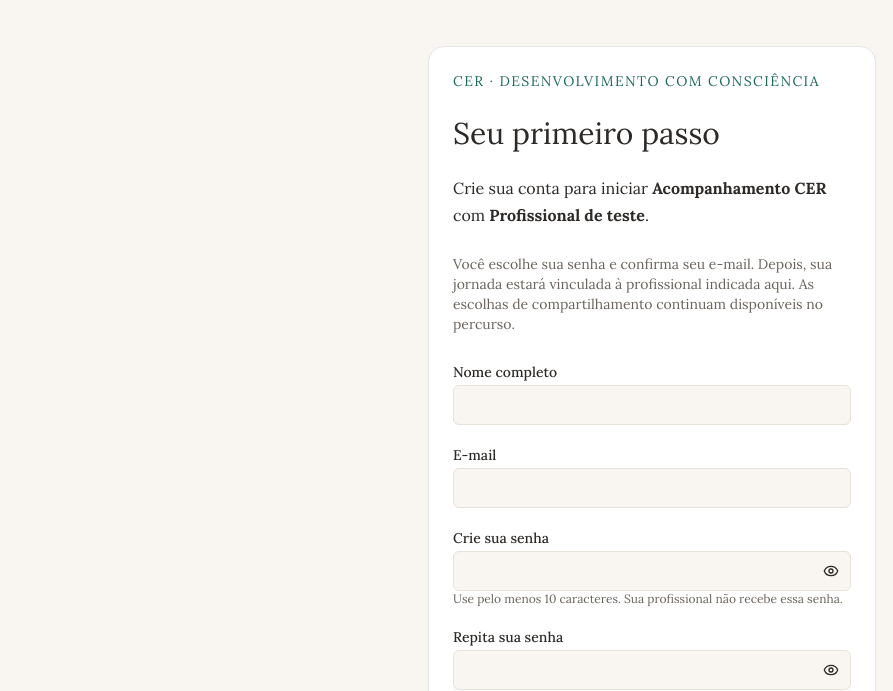
it: falha de envio preserva nome e e-mail, limpa senhas e permite reenviar confirmação
Type "Pessoa de Teste" into the field labelled "Nome completo" at point(652, 405), box 453,385 -> 851,425
Type "pessoa@example.invalid" into the field labelled "E-mail" at point(652, 488), box 453,468 -> 851,508
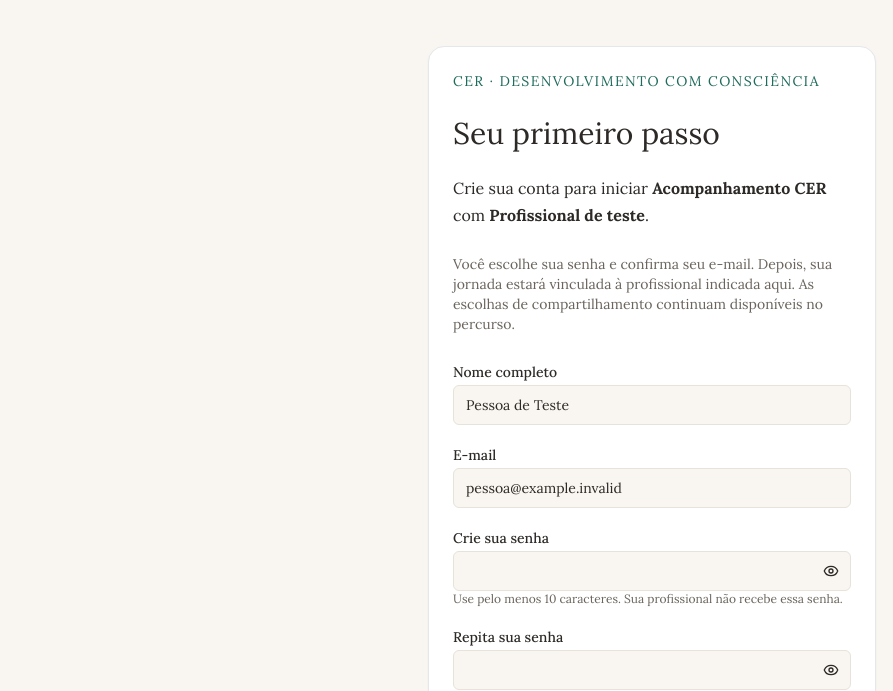
Type "Fixture-only-123" into the password field labelled "Crie sua senha" at point(652, 571), box 453,551 -> 851,591
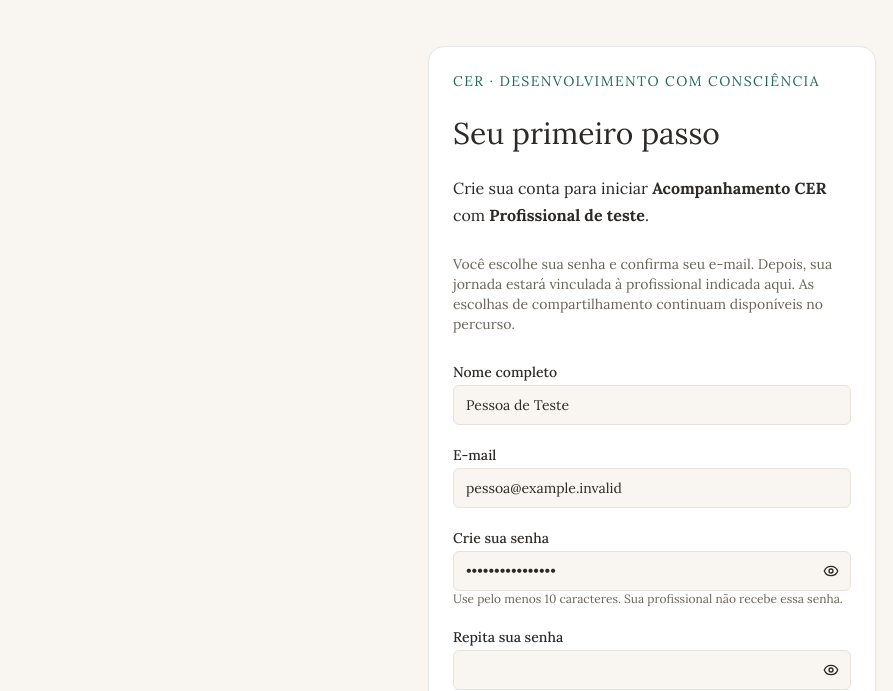
Type "Fixture-only-123" into the password field labelled "Repita sua senha" at point(652, 670), box 453,650 -> 851,690
(page scrolled)
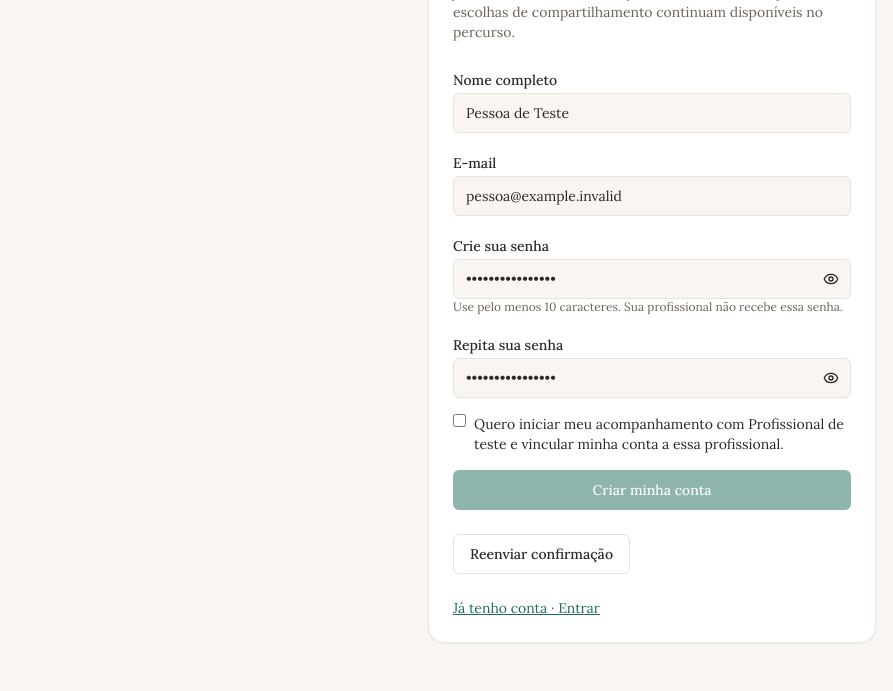
Click the checkbox at point(460, 421), box 453,414 -> 466,427
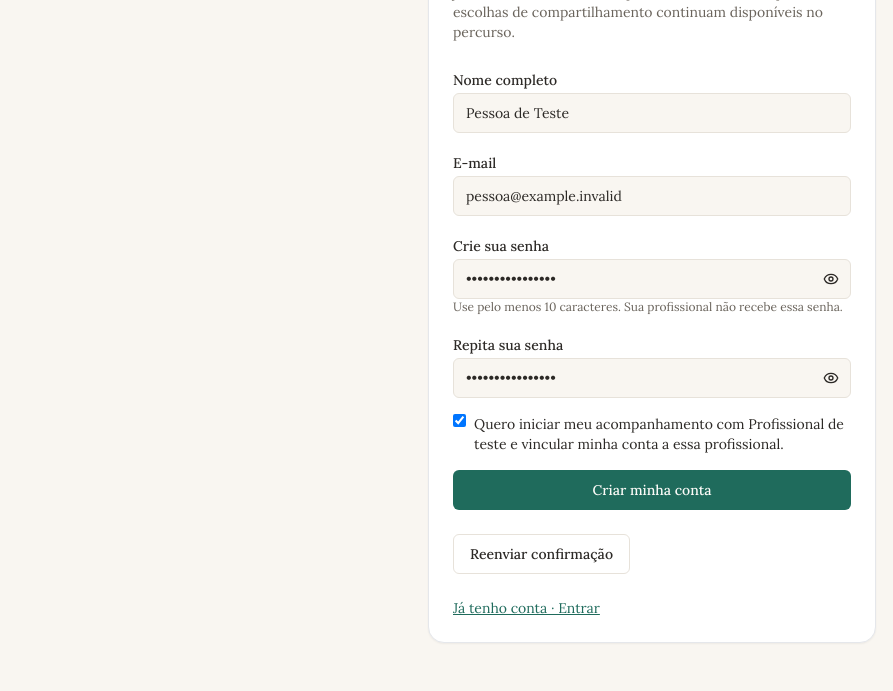
Submit the form named "Criar minha conta", box 453,66 -> 851,510
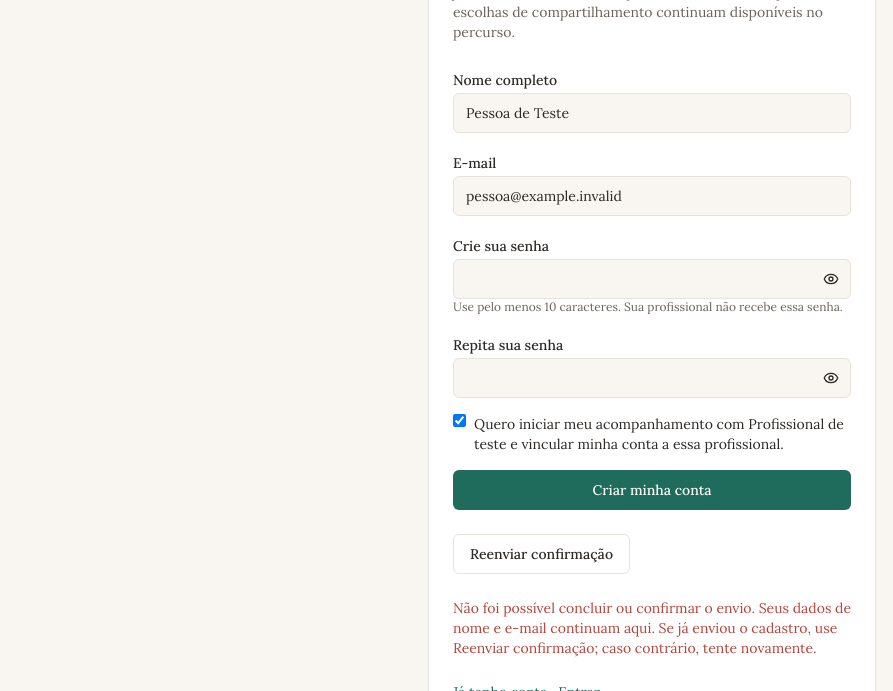
Now the message is shown, box 453,598 -> 851,658
Now the password field labelled "Crie sua senha" is empty, box 453,259 -> 851,299
Click the button "Reenviar confirmação" at point(542, 554), box 453,534 -> 630,574
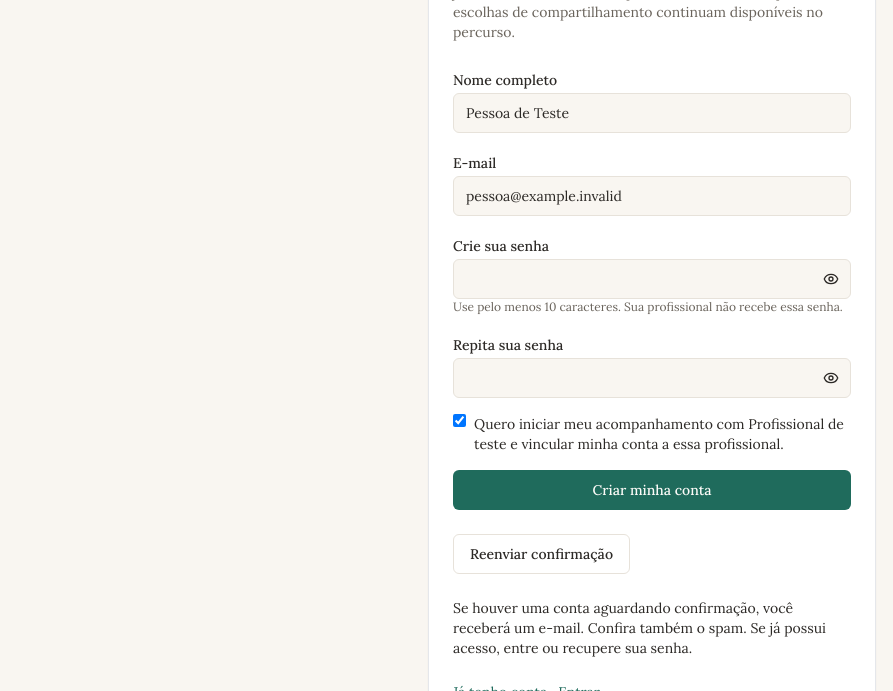
Now the message shows "Se houver uma conta", box 453,599 -> 826,657
